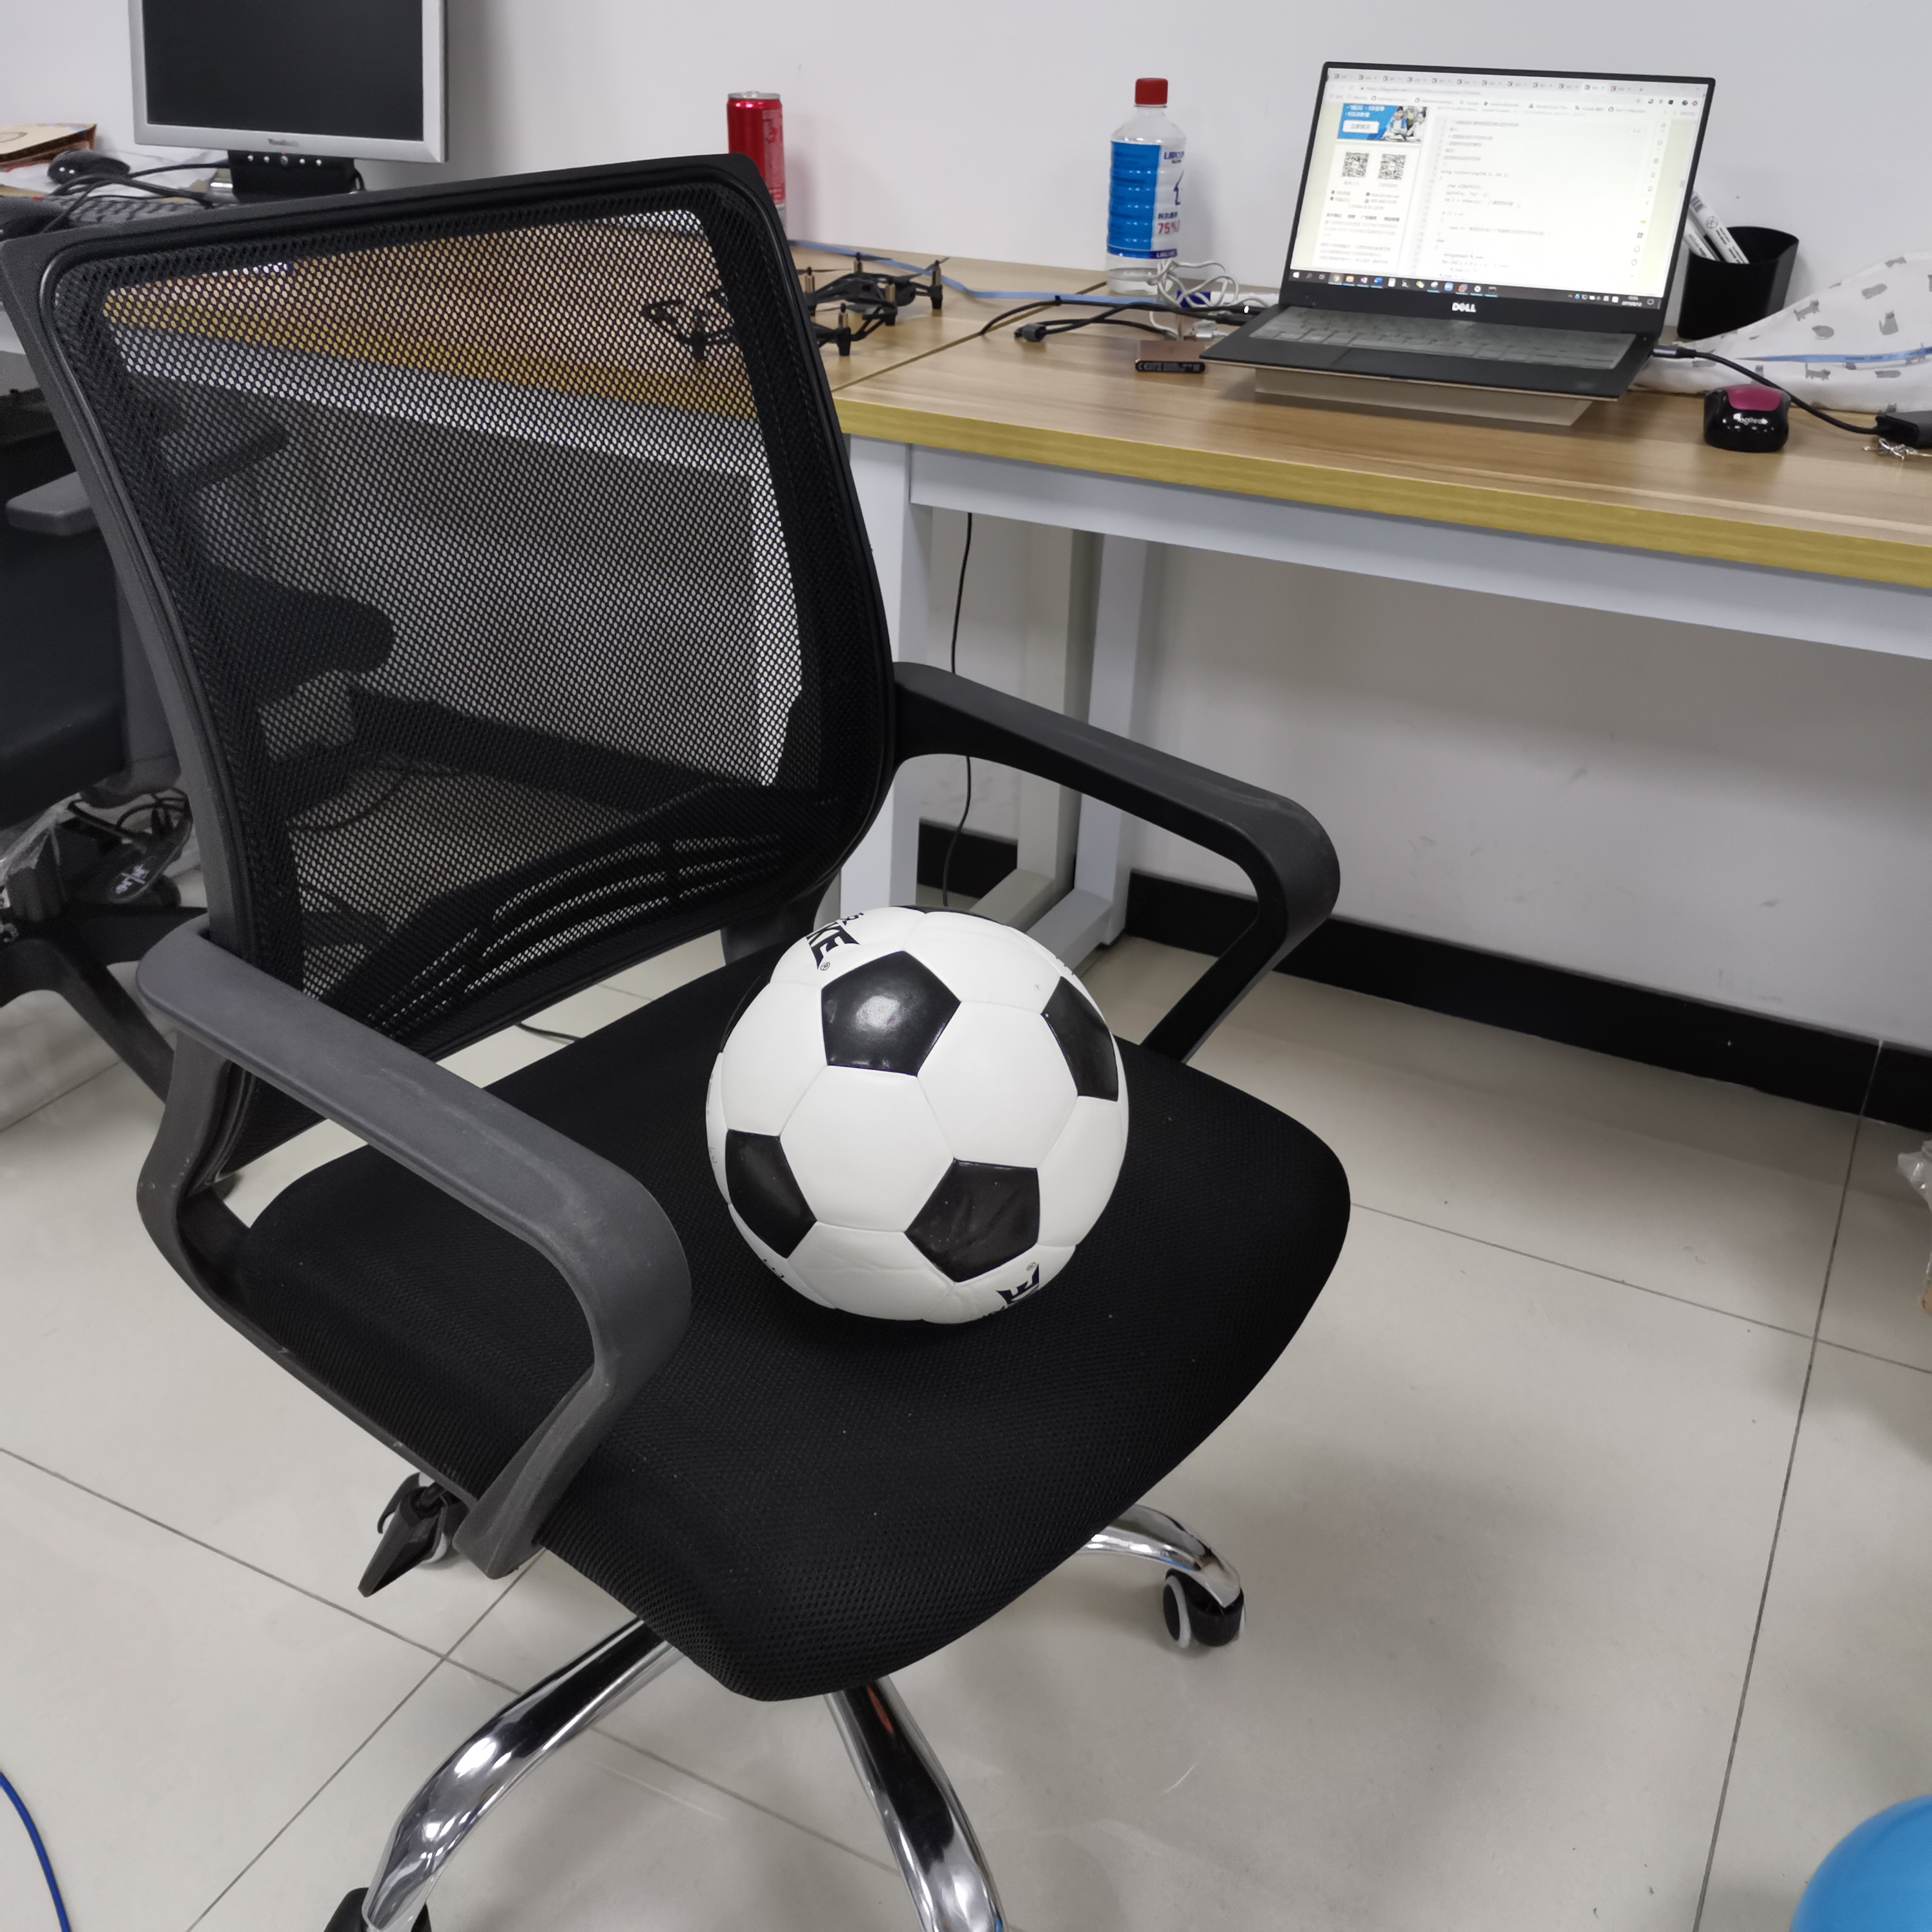football: (706, 908, 1131, 1323)
